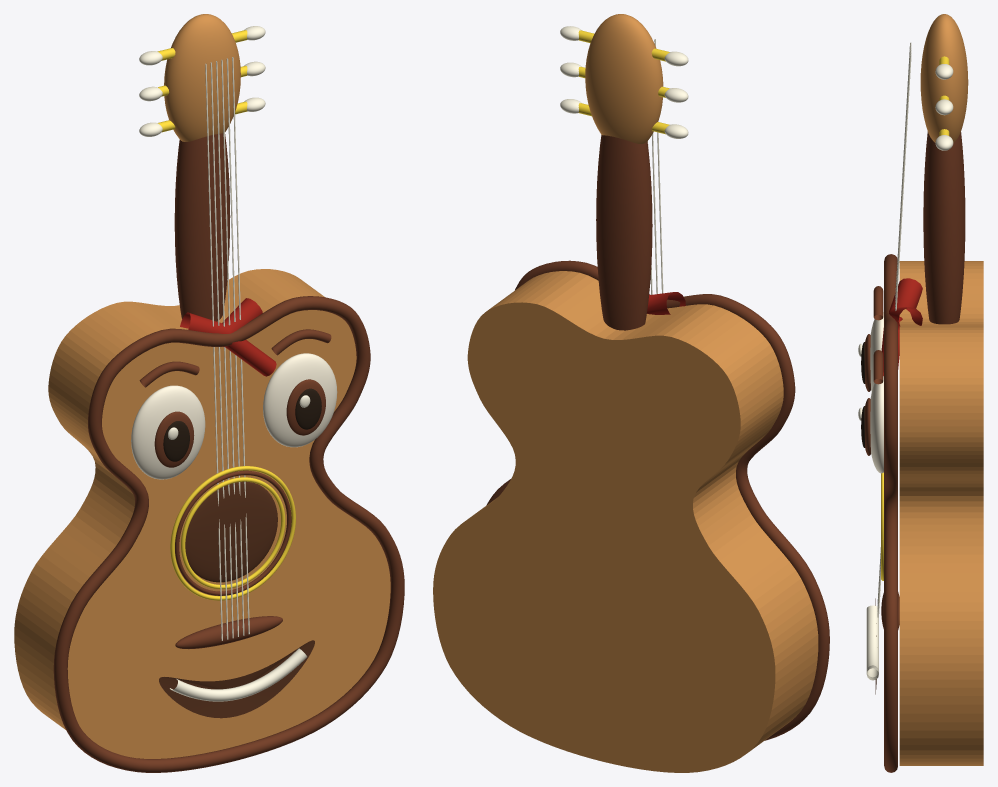
File: lola-avatar.glb
3 views of the same model, side by side, from view 1: azimuth 30°, elevation 25°; view 2: azimuth 150°, elevation 25°; view 3: azimuth 270°, elevation 25° (orthographic). The views are drawn at different scales.
Parts seen in each view (by area): view 1: Cedar soundboard, Binding, Neck, Headstock, Sound hole, EyeWhite_L, EyeWhite_R, Smile, Rosette.002, SmileTeeth, Rosette.001, Bridge (+13 smaller); view 2: Cedar soundboard, Neck, Headstock, Binding; view 3: Cedar soundboard, Neck, Binding, Headstock, EyeWhite_R, Red ribbon, SmileTeeth, String.005, EyeWhite_L, Brow_L, Brow_R, Iris_L (+2 smaller).
Boxes of the visible parts, bbox=[...] form: Cedar soundboard: bbox=[14, 269, 390, 758]; Binding: bbox=[53, 296, 404, 772]; Neck: bbox=[174, 133, 230, 321]; Headstock: bbox=[164, 14, 240, 141]; Sound hole: bbox=[185, 481, 277, 582]; EyeWhite_L: bbox=[131, 385, 205, 479]; EyeWhite_R: bbox=[263, 353, 337, 447]; Smile: bbox=[159, 640, 314, 718]; Rosette.002: bbox=[170, 466, 295, 600]; SmileTeeth: bbox=[170, 648, 307, 701]; Rosette.001: bbox=[175, 470, 291, 595]; Bridge: bbox=[175, 616, 282, 649]; Cedar soundboard: bbox=[433, 271, 818, 772]; Neck: bbox=[596, 135, 652, 330]; Headstock: bbox=[585, 14, 663, 143]; Binding: bbox=[486, 260, 829, 740]; Cedar soundboard: bbox=[899, 261, 983, 765]; Neck: bbox=[923, 131, 965, 324]; Binding: bbox=[884, 254, 897, 772]; Headstock: bbox=[920, 14, 968, 142]; EyeWhite_R: bbox=[870, 376, 883, 473]; Red ribbon: bbox=[889, 278, 922, 329]; SmileTeeth: bbox=[866, 605, 878, 680]; String.005: bbox=[877, 55, 911, 617]; EyeWhite_L: bbox=[870, 312, 883, 391]; Brow_L: bbox=[873, 286, 883, 320]; Brow_R: bbox=[873, 350, 883, 384]; Iris_L: bbox=[865, 334, 870, 391].
Size of the model in its own units: 1.43 by 2.85 by 0.447.
